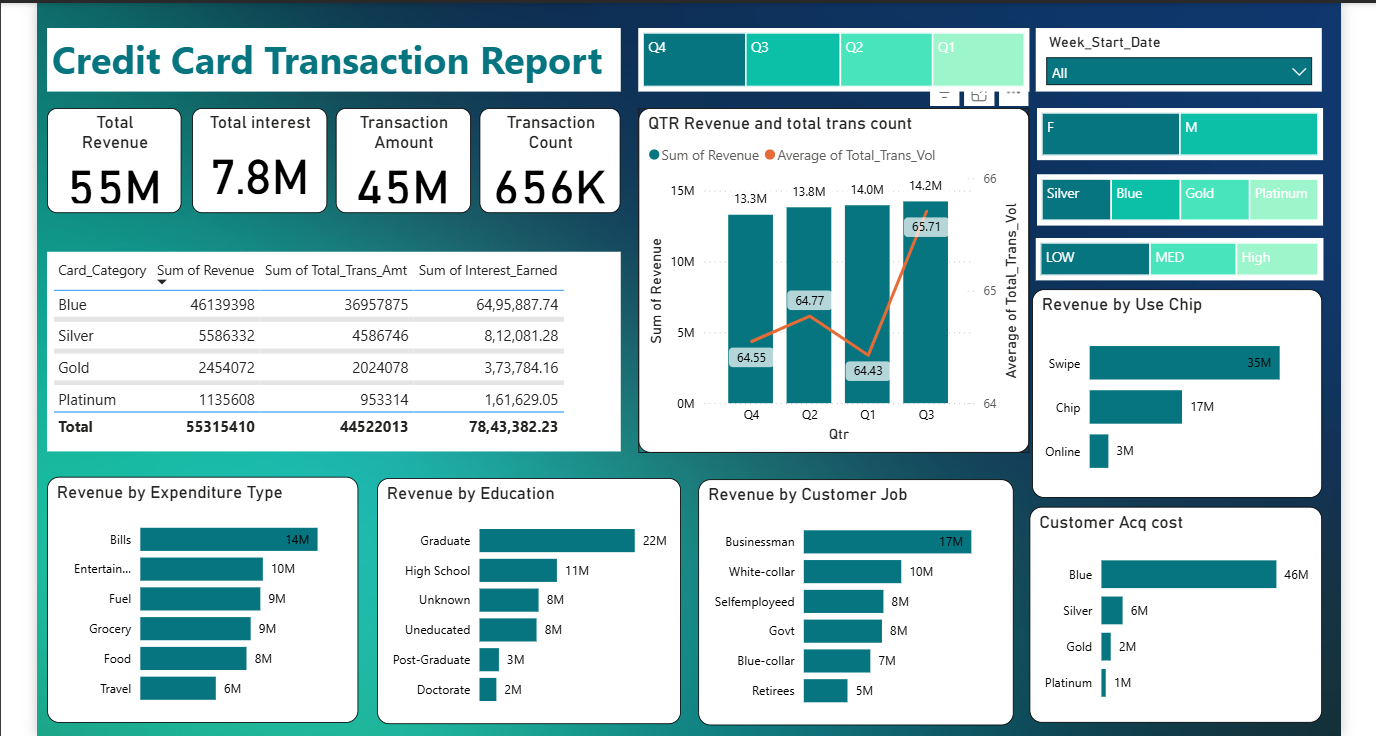

The dashboard page shown, as its layout file describes it:
{"tool":"powerbi","page":{"name":"CC Transaction","canvas":[1280,720],"ordinal":0},"visuals":[{"type":"textbox","box":[9.8,24.5,563.2,62.6],"z":0},{"type":"lineStackedColumnComboChart","title":"QTR Revenue and total trans count","fields":{"Category":["ccdb credit_card.Qtr"],"Y":["Sum(ccdb credit_card.Revenue)"],"Y2":["Avg(ccdb credit_card.Total_Trans_Vol)"]},"box":[590.2,103.1,384.1,338.7],"z":1000},{"type":"barChart","title":"Revenue by Expenditure Type","fields":{"Y":["Sum(ccdb credit_card.Revenue)"],"Category":["ccdb credit_card.Exp Type"]},"box":[9.8,465,305.5,241.7],"z":2000},{"type":"barChart","title":"Revenue by Education","fields":{"Y":["Sum(ccdb credit_card.Revenue)"],"Category":["ccdb customer.Education_Level"]},"box":[333.7,466.3,298.2,241.7],"z":3000},{"type":"barChart","title":"Revenue by  Customer Job","fields":{"Y":["Sum(ccdb credit_card.Revenue)"],"Category":["ccdb customer.Customer_Job"]},"box":[649.1,467.5,309.2,241.7],"z":4000},{"type":"barChart","title":"Customer Acq cost","fields":{"Y":["Sum(ccdb credit_card.Revenue)"],"Category":["ccdb credit_card.Card_Category"]},"box":[974.2,494.5,287.1,212.3],"z":5000},{"type":"barChart","title":"Revenue by Use Chip","fields":{"Y":["Sum(ccdb credit_card.Revenue)"],"Category":["ccdb credit_card.Use Chip"]},"box":[976.7,281,284.7,204.9],"z":6000},{"type":"tableEx","fields":{"Values":["ccdb credit_card.Card_Category","Sum(ccdb credit_card.Revenue)","Sum(ccdb credit_card.Total_Trans_Amt)","Sum(ccdb credit_card.Interest_Earned)"]},"box":[9.8,244.2,563.2,196.3],"z":7000},{"type":"card","title":"Total Revenue","fields":{"Values":["Sum(ccdb credit_card.Revenue)"]},"box":[9.8,103.1,132,103.1],"z":8000},{"type":"card","title":"Total interest","fields":{"Values":["Sum(ccdb credit_card.Interest_Earned)"]},"box":[152.1,103.1,132.5,103.1],"z":9000},{"type":"card","title":"Transaction Amount","fields":{"Values":["Sum(ccdb credit_card.Total_Trans_Amt)"]},"box":[293.3,103.1,132.5,103.1],"z":10000},{"type":"card","title":"Transaction Count","fields":{"Values":["Sum(ccdb credit_card.Total_Trans_Vol)"]},"box":[434.4,103.1,138.7,103.1],"z":11000},{"type":"slicer","fields":{"Values":["ccdb credit_card.Week_Start_Date"]},"box":[980.4,24.5,281,62.6],"z":12000},{"type":"treemap","fields":{"Group":["ccdb credit_card.Qtr"],"Values":["Avg(ccdb credit_card.ï»¿Client_Num)"]},"box":[590.2,24.5,384.1,62.6],"z":13000},{"type":"treemap","fields":{"Values":["Avg(ccdb credit_card.ï»¿Client_Num)"],"Group":["ccdb customer.Gender"]},"box":[981.6,103.1,281,51.5],"z":14000},{"type":"treemap","fields":{"Values":["Avg(ccdb credit_card.ï»¿Client_Num)"],"Group":["ccdb credit_card.Card_Category"]},"box":[981.6,168.1,281,50.3],"z":15000},{"type":"treemap","fields":{"Values":["CountNonNull(ccdb credit_card.ï»¿Client_Num)"],"Group":["ccdb customer.IncomeGroup"]},"box":[980.4,230.7,282.2,41.7],"z":16000}]}

Visuals, with their boxes in screenshot pixels (x1, y1, x2, y2):
textbox: box(53, 28, 620, 91)
"QTR Revenue and total trans count" lineStackedColumnComboChart: box(637, 107, 1023, 448)
"Revenue by Expenditure Type" barChart: box(53, 471, 360, 715)
"Revenue by Education" barChart: box(379, 473, 679, 716)
"Revenue by  Customer Job" barChart: box(696, 474, 1007, 717)
"Customer Acq cost" barChart: box(1023, 501, 1312, 715)
"Revenue by Use Chip" barChart: box(1026, 286, 1312, 492)
tableEx - ccdb credit_card.Card_Category x Sum(ccdb credit_card.Revenue): box(53, 249, 620, 447)
"Total Revenue" card: box(53, 107, 186, 211)
"Total interest" card: box(196, 107, 329, 211)
"Transaction Amount" card: box(338, 107, 471, 211)
"Transaction Count" card: box(480, 107, 620, 211)
slicer - ccdb credit_card.Week_Start_Date: box(1029, 28, 1312, 91)
treemap - ccdb credit_card.Qtr x Avg(ccdb credit_card.ï»¿Client_Num): box(637, 28, 1023, 91)
treemap - Avg(ccdb credit_card.ï»¿Client_Num) x ccdb customer.Gender: box(1031, 107, 1313, 159)
treemap - Avg(ccdb credit_card.ï»¿Client_Num) x ccdb credit_card.Card_Category: box(1031, 173, 1313, 223)
treemap - CountNonNull(ccdb credit_card.ï»¿Client_Num) x ccdb customer.IncomeGroup: box(1029, 236, 1313, 278)
